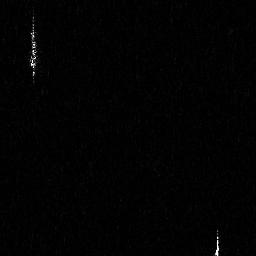ship: (26, 16, 38, 80)
